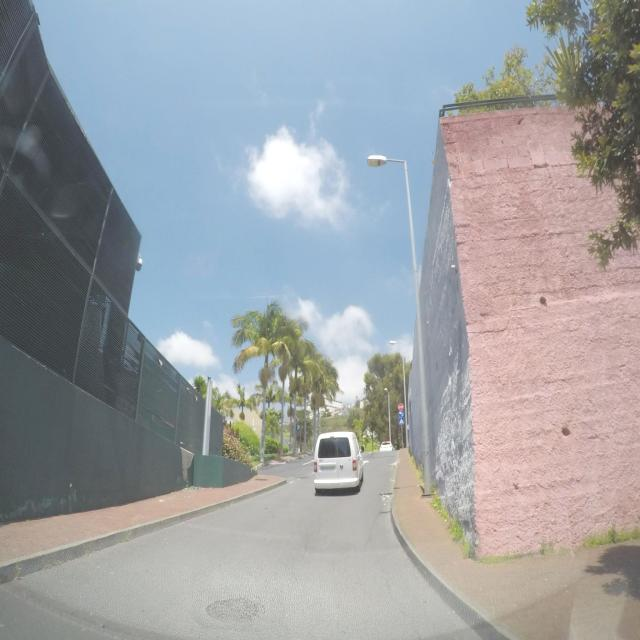car: (313, 431, 365, 495), (379, 440, 393, 451)
